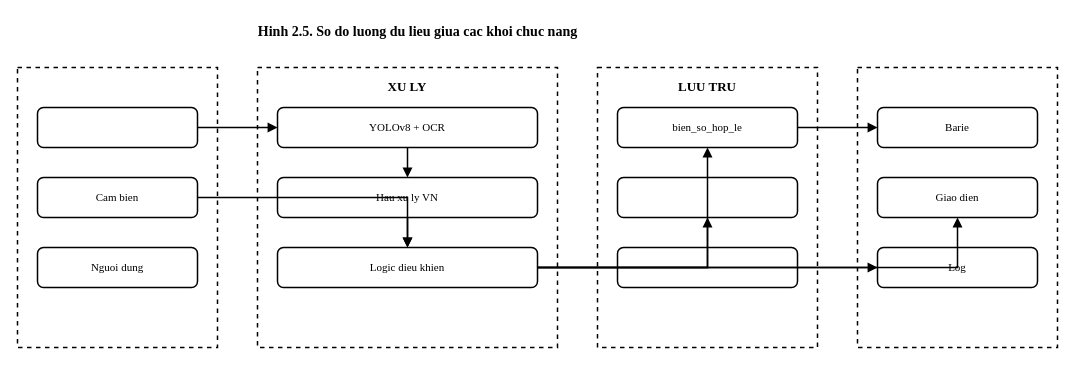
Image size: 1076x365. Some labels were removed from this diagram. Here are the shapes that lost their labels. From the top down, the box of each, then its label:
(36, 106, 198, 148): Camera
(16, 66, 218, 348): DAU VAO
(616, 176, 798, 218): xe_trong_bai
(856, 66, 1058, 348): DAU RA
(616, 246, 798, 288): cai_dat
